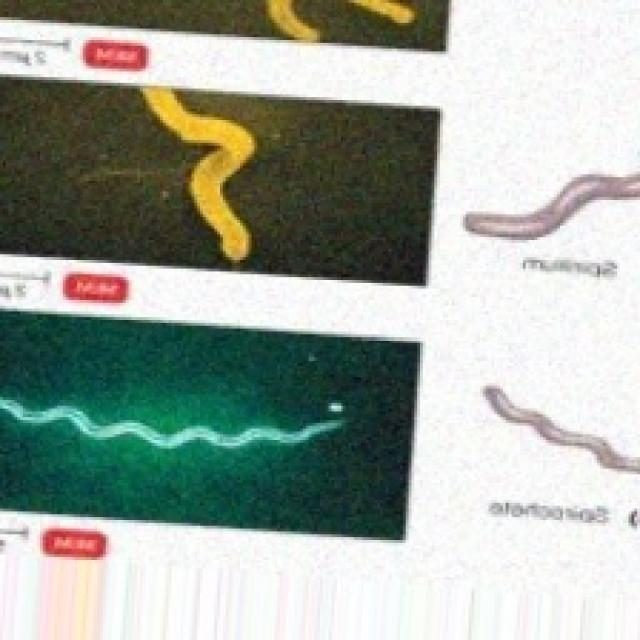Spiral_bacteria: (107, 80, 295, 286)
